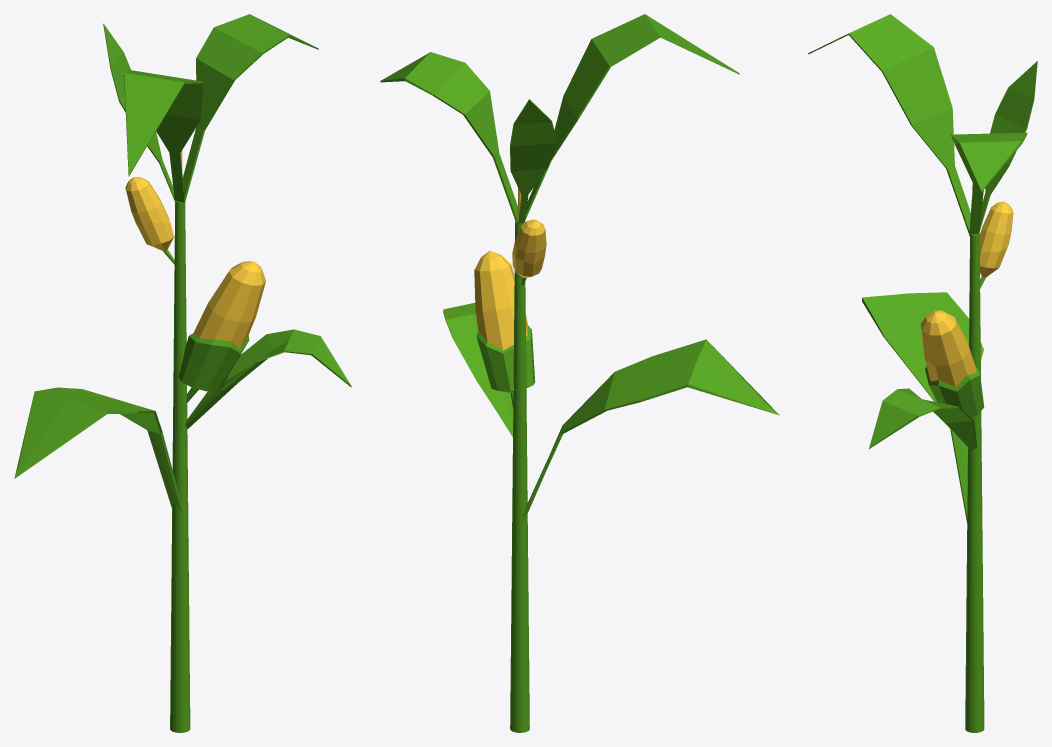
File: Isl_3_Corn_2.fbx
The picture shows the model from 3 angles, left to right: view 1: azimuth 30°, elevation 25°; view 2: azimuth 150°, elevation 25°; view 3: azimuth 270°, elevation 25°; orthographic projection. The views are drawn at different scales.
Parts seen in each view (by area): view 1: Isl_3_Corn_2; view 2: Isl_3_Corn_2; view 3: Isl_3_Corn_2.
Boxes of the visible parts, box(x1,y1,x2,y2) form: Isl_3_Corn_2: box(14, 14, 351, 732); Isl_3_Corn_2: box(380, 14, 779, 732); Isl_3_Corn_2: box(808, 14, 1037, 732).
Size of the model in its own units: 116 by 68.05 by 219.
1 material, 1 textured.
